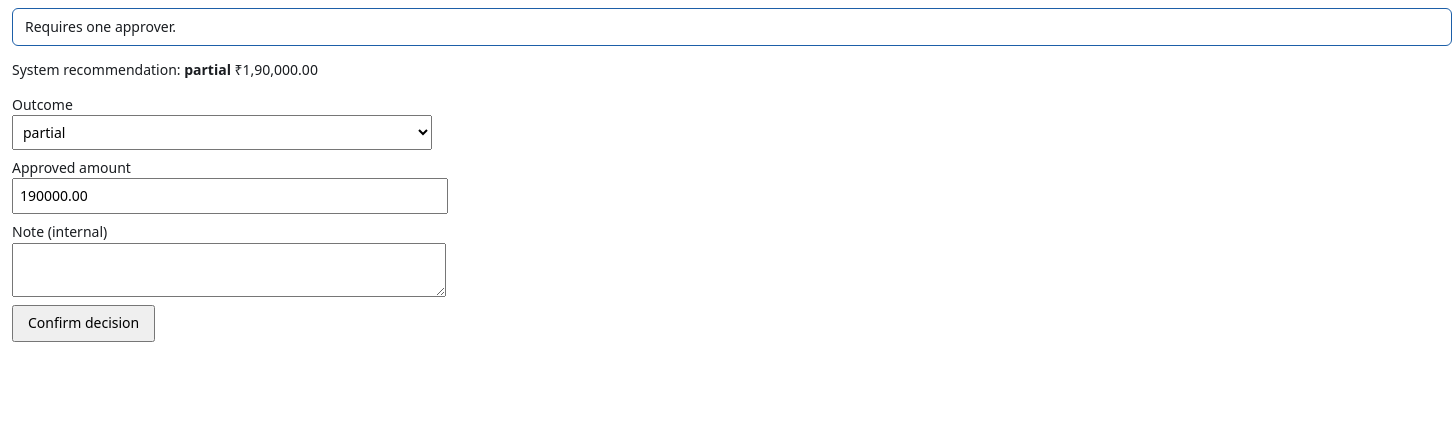
Test: decision form › requires a written reason before an override can be submitted
Select "approve" in the dropdown labelled "Outcome" at (222, 132), box [12,115,432,150]
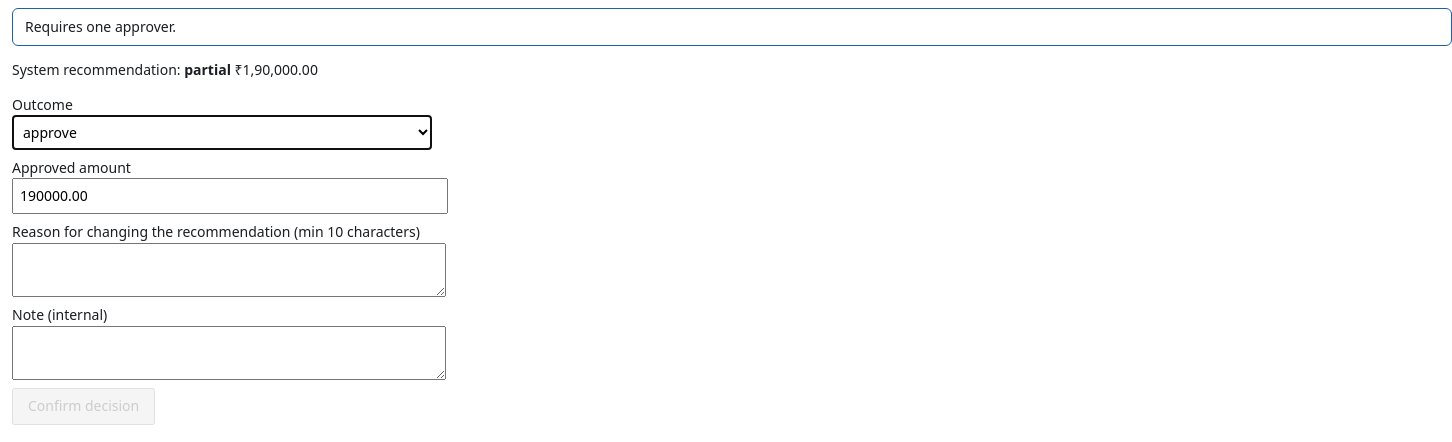
Result: the button "Confirm decision" is disabled at [12,388,155,425]
Type "Hospital supplied the stamped bill offline" into the text box labelled "Reason for changing the recommendation (min 10 characters)" at (229, 270), box [12,243,446,297]
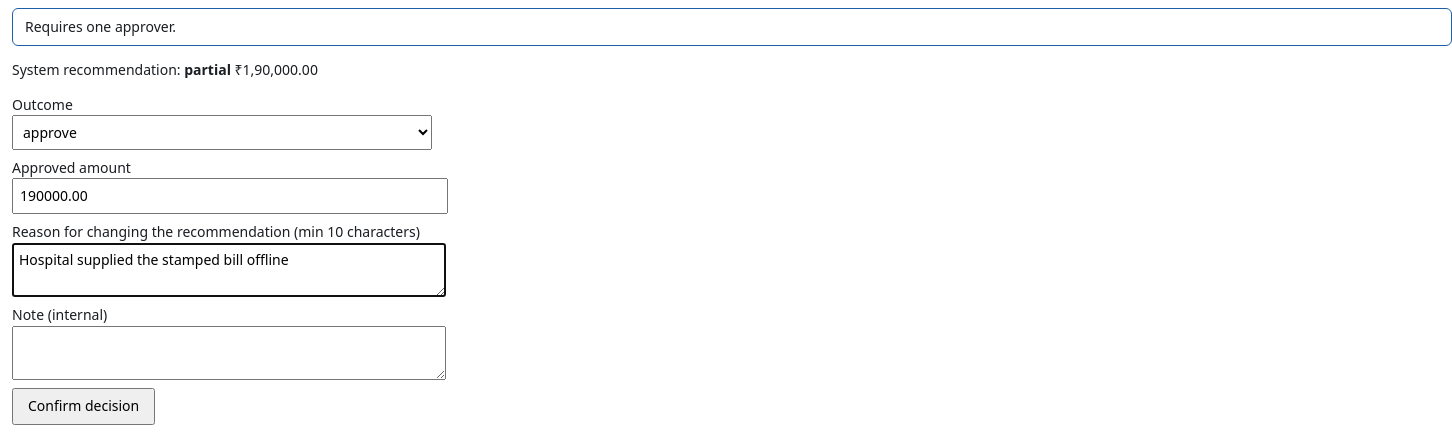
Result: the button "Confirm decision" is enabled at [12,388,155,425]
